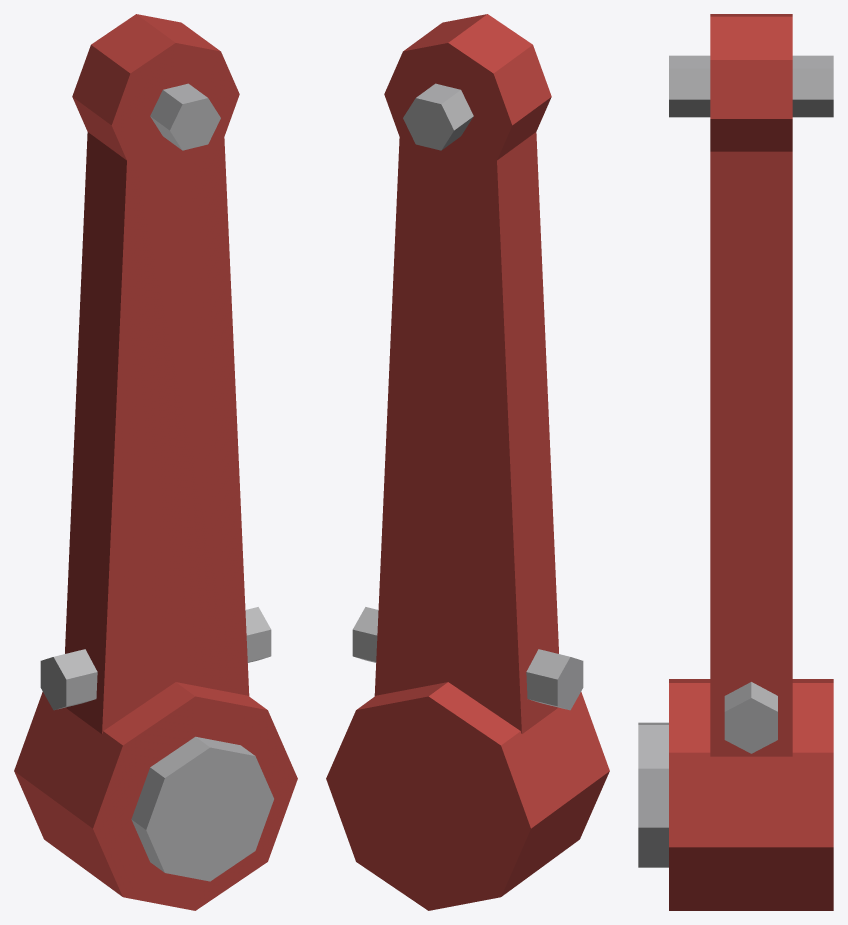
File: drum_arm_lod1.glb
3 renders of one model, left to right at view 1: azimuth 30°, elevation 25°; view 2: azimuth 150°, elevation 25°; view 3: azimuth 270°, elevation 25°, orthographic. The views are drawn at different scales.
Visible parts, largest first — view 1: drum_arm_lod1; view 2: drum_arm_lod1; view 3: drum_arm_lod1.
Boxes of the visible parts, bbox=[...] form: drum_arm_lod1: bbox=[14, 14, 297, 910]; drum_arm_lod1: bbox=[326, 14, 609, 910]; drum_arm_lod1: bbox=[638, 14, 833, 910].
Bounding box in the file's own units: 0.024 × 0.0955 × 0.019.
